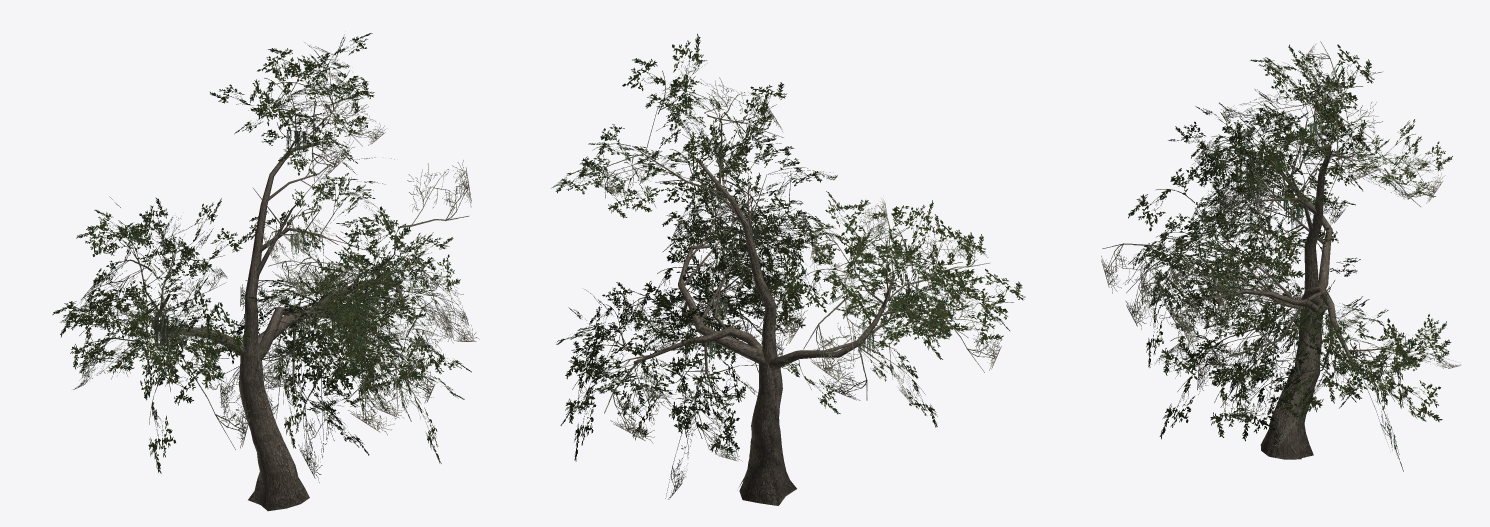
File: tree_v6_decid_gothic_twisted_summer.glb
3 renders of one model, left to right at view 1: azimuth 30°, elevation 25°; view 2: azimuth 150°, elevation 25°; view 3: azimuth 270°, elevation 25°, orthographic.
Parts seen in each view (by area): view 1: tree_v6_decid_gothic_twisted_summer_LOD0; view 2: tree_v6_decid_gothic_twisted_summer_LOD0; view 3: tree_v6_decid_gothic_twisted_summer_LOD0.
Boxes of the visible parts, <box> form: tree_v6_decid_gothic_twisted_summer_LOD0: <box>52,33,479,511</box>; tree_v6_decid_gothic_twisted_summer_LOD0: <box>551,33,1025,505</box>; tree_v6_decid_gothic_twisted_summer_LOD0: <box>1101,41,1460,471</box>.
Size of what is drawn, in the model's own units: 11.08 by 10.47 by 7.91.
Materials: 1 (1 with a texture image).
